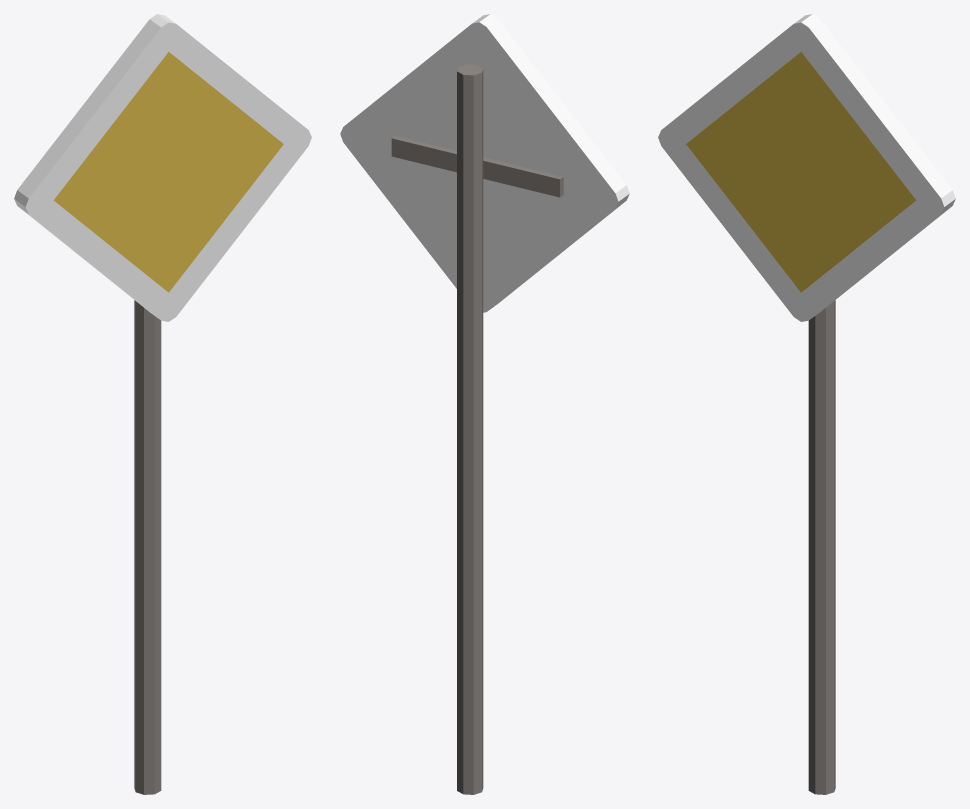
The model's file is RoadSign_01.fbx.
3 renders of one model, left to right at view 1: azimuth 30°, elevation 25°; view 2: azimuth 150°, elevation 25°; view 3: azimuth 330°, elevation 25°, orthographic. The views are drawn at different scales.
Parts seen in each view (by area): view 1: RoadSign_01; view 2: RoadSign_01; view 3: RoadSign_01.
Part boxes in pixels (box(x1,y1,x2,y2)): RoadSign_01: box(14, 14, 311, 794); RoadSign_01: box(340, 14, 629, 794); RoadSign_01: box(658, 14, 955, 794).
Bounding box in the file's own units: 71.36 × 186 × 12.09.
